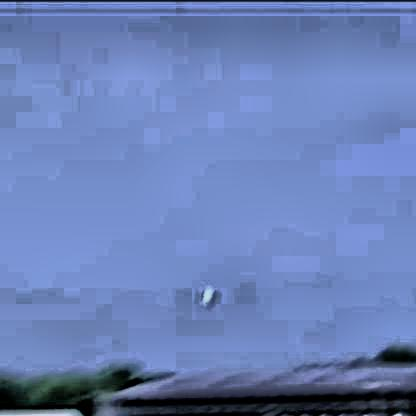golfball: (199, 277, 215, 301)
